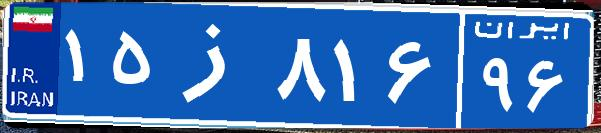1: (330, 28, 385, 110), (57, 26, 110, 107)
5: (110, 28, 158, 105)
6: (385, 28, 445, 110), (525, 38, 570, 115)
8: (273, 28, 330, 110)
9: (475, 38, 525, 113)
ز: (158, 15, 273, 115)
